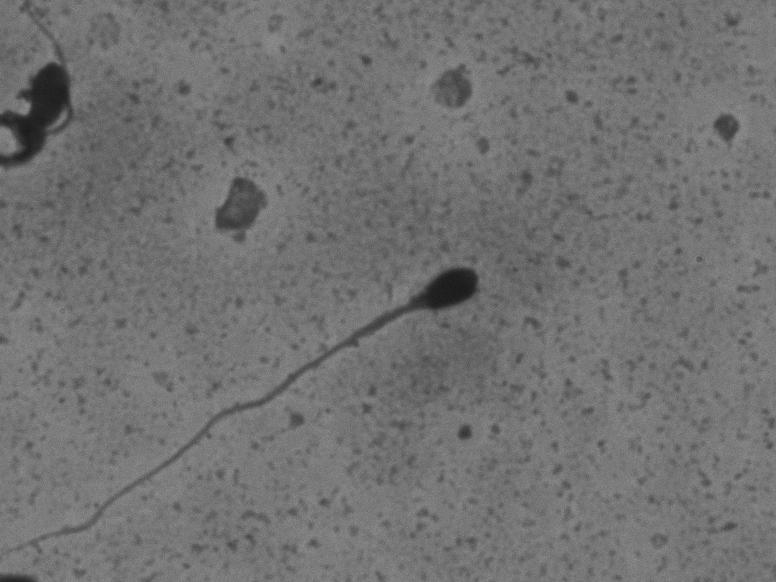Normal: (17, 234, 533, 565)
